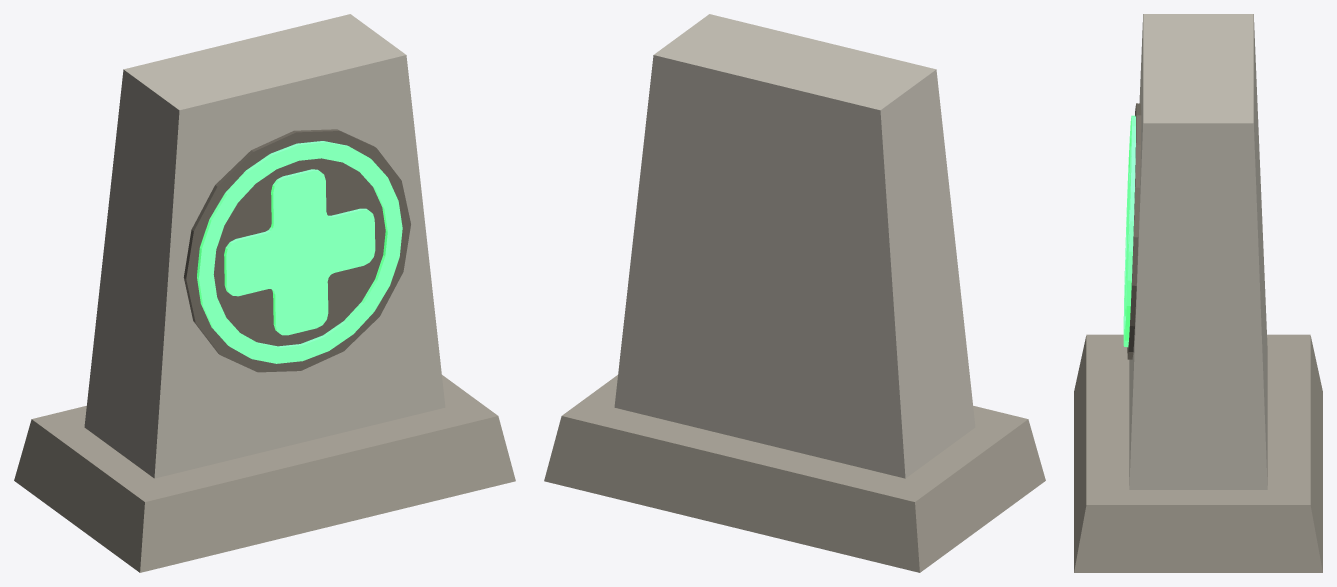
File: prop-healing-stele.glb
3 views of the same model, side by side, from view 1: azimuth 30°, elevation 25°; view 2: azimuth 150°, elevation 25°; view 3: azimuth 270°, elevation 25° (orthographic).
Parts seen in each view (by area): view 1: HealingStele; view 2: HealingStele; view 3: HealingStele.
Boxes of the visible parts, x1,y1,x2,y2 form: HealingStele: (14, 14, 515, 572); HealingStele: (544, 14, 1045, 572); HealingStele: (1074, 14, 1322, 572).
Bounding box in the file's own units: 0.62 × 0.66 × 0.36.
